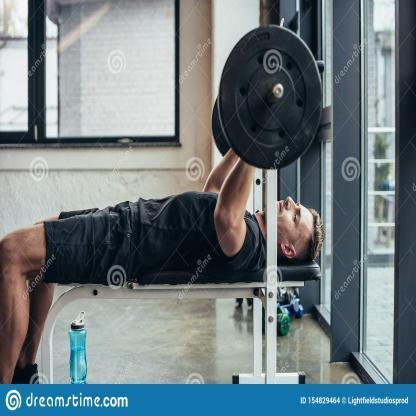barbell: (211, 26, 324, 170)
